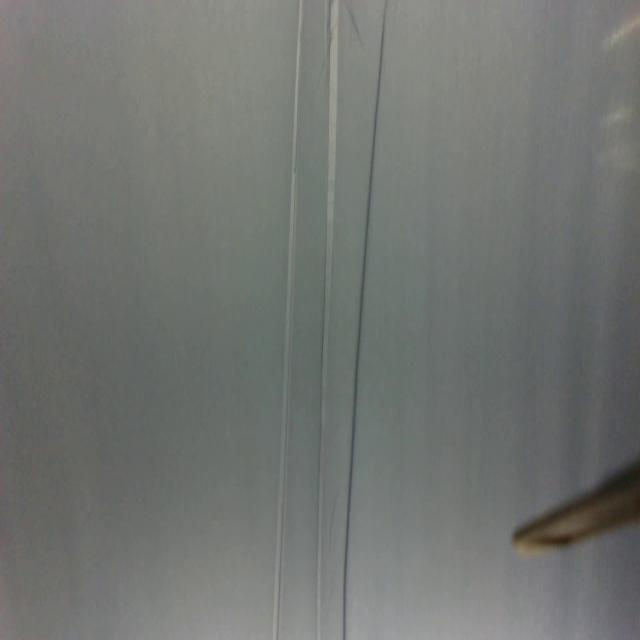crease: (341, 0, 389, 637), (270, 1, 305, 640), (314, 0, 341, 636)
